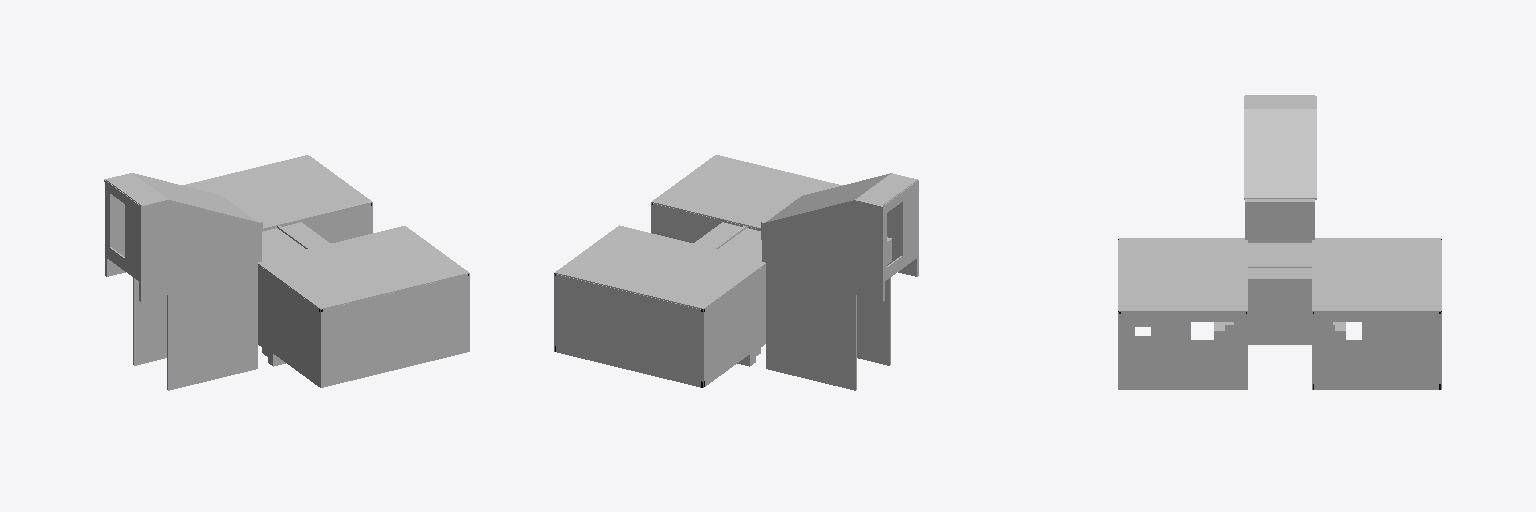
Rendered from betonowe.obj.
3 views of the same model, side by side, from view 1: azimuth 30°, elevation 25°; view 2: azimuth 150°, elevation 25°; view 3: azimuth 270°, elevation 25° (orthographic).
Visible parts, largest first — view 1: Kostka_Kostka.004, Kostka.005_Kostka.020_Kostka.005_Kostka.001, Kostka.004_Kostka.019, Kostka.003_Kostka.006, Kostka.004_Kostka.001, Kostka.004_Kostka.008, Kostka.005_Kostka.020_Kostka.005_Kostka.003; view 2: Kostka_Kostka.004, Kostka.004_Kostka.001, Kostka.005_Kostka.020_Kostka.005_Kostka.001, Kostka.003_Kostka.006, Kostka.004_Kostka.019, Kostka.004_Kostka.008, Kostka.005_Kostka.020_Kostka.005_Kostka.003; view 3: Kostka.005_Kostka.020_Kostka.005_Kostka.001, Kostka.004_Kostka.001, Kostka.004_Kostka.019, Kostka.003_Kostka.006, Kostka.005_Kostka.020_Kostka.005_Kostka.002_Kostka.005_Kostka.0, Kostka.005_Kostka.020_Kostka.005_Kostka.003.
Part boxes in pixels (left/top/right/bottom): Kostka_Kostka.004: left=105, top=183, right=257, bottom=390; Kostka.005_Kostka.020_Kostka.005_Kostka.001: left=182, top=155, right=469, bottom=309; Kostka.004_Kostka.019: left=258, top=265, right=469, bottom=387; Kostka.003_Kostka.006: left=104, top=173, right=258, bottom=224; Kostka.004_Kostka.001: left=262, top=203, right=372, bottom=248; Kostka.004_Kostka.008: left=106, top=179, right=141, bottom=280; Kostka.005_Kostka.020_Kostka.005_Kostka.003: left=262, top=222, right=330, bottom=259; Kostka_Kostka.004: left=766, top=183, right=918, bottom=390; Kostka.004_Kostka.001: left=554, top=226, right=765, bottom=387; Kostka.005_Kostka.020_Kostka.005_Kostka.001: left=555, top=155, right=842, bottom=309; Kostka.003_Kostka.006: left=765, top=173, right=918, bottom=224; Kostka.004_Kostka.019: left=651, top=203, right=760, bottom=242; Kostka.004_Kostka.008: left=882, top=179, right=917, bottom=280; Kostka.005_Kostka.020_Kostka.005_Kostka.003: left=693, top=222, right=761, bottom=259; Kostka.005_Kostka.020_Kostka.005_Kostka.001: left=1119, top=238, right=1440, bottom=311; Kostka.004_Kostka.001: left=1248, top=240, right=1441, bottom=389; Kostka.004_Kostka.019: left=1118, top=240, right=1247, bottom=389; Kostka.003_Kostka.006: left=1244, top=96, right=1316, bottom=199; Kostka.005_Kostka.020_Kostka.005_Kostka.002_Kostka.005_Kostka.0: left=1245, top=199, right=1314, bottom=242; Kostka.005_Kostka.020_Kostka.005_Kostka.003: left=1248, top=243, right=1311, bottom=279.
Bounding box in the file's own units: 7.15 × 4.94 × 7.52.